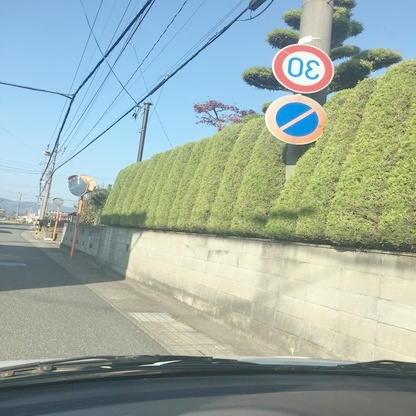Prohibition_sign: (264, 90, 332, 149)
Speed_sign: (274, 42, 338, 93)
